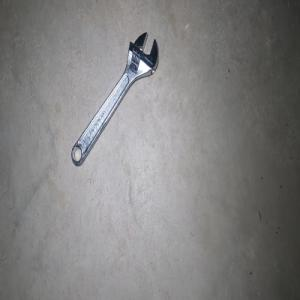Wrench: (71, 31, 158, 166)
